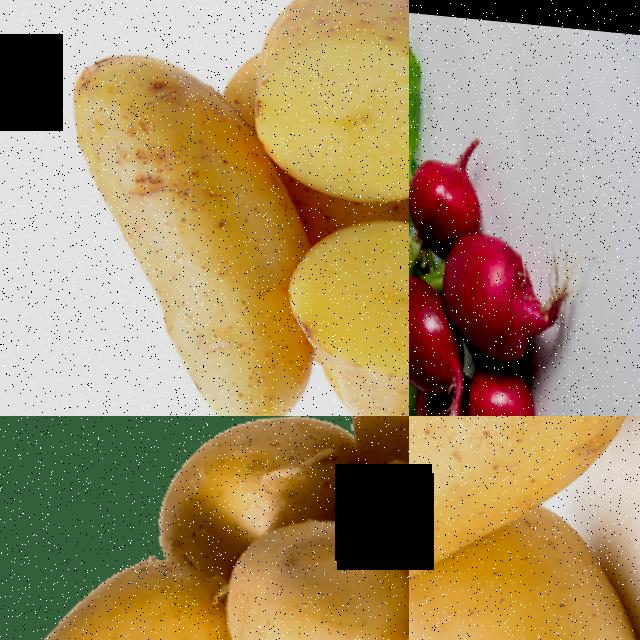potato: (54, 22, 307, 416), (409, 416, 640, 640), (228, 0, 409, 221), (273, 187, 409, 416), (135, 416, 361, 551), (211, 493, 409, 640), (409, 542, 640, 640), (0, 542, 203, 640)
spinach: (409, 117, 578, 416)
